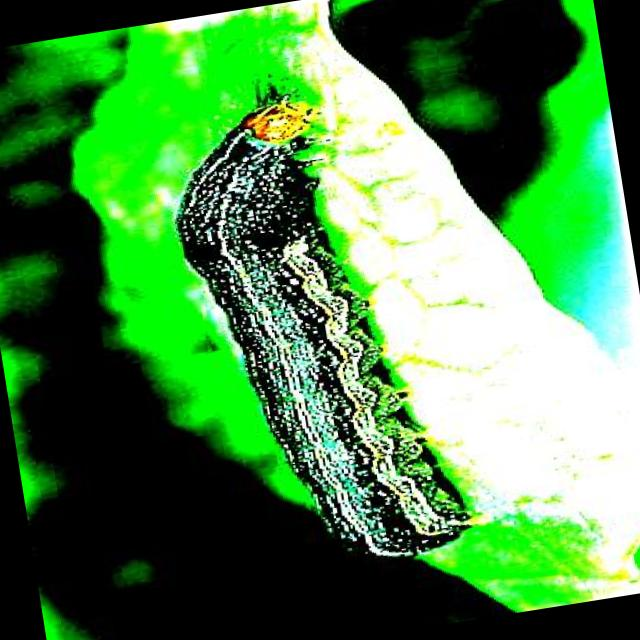Armyworm: (119, 60, 500, 619)
